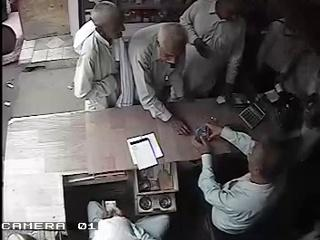Normal: (192, 124, 290, 239), (126, 22, 194, 136), (180, 0, 253, 105)
shoplifting: (72, 2, 126, 112)
